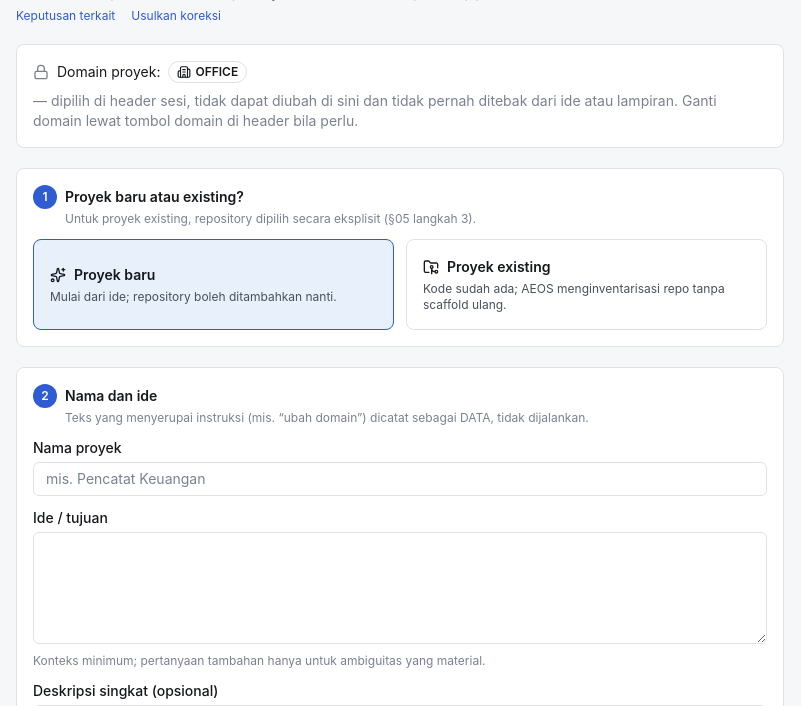
NewProjectPage › shows the session domain read-only and sends it explicitly with the domain's provider
Expected: the text "OFFICE" is shown, x1=168 y1=61 x2=247 y2=83
Expected: the text "tidak dapat diubah di sini" is shown, x1=33 y1=92 x2=716 y2=129
Click the radio button labelled "Proyek existing" at point(586, 284), box x1=406 y1=239 x2=767 y2=330
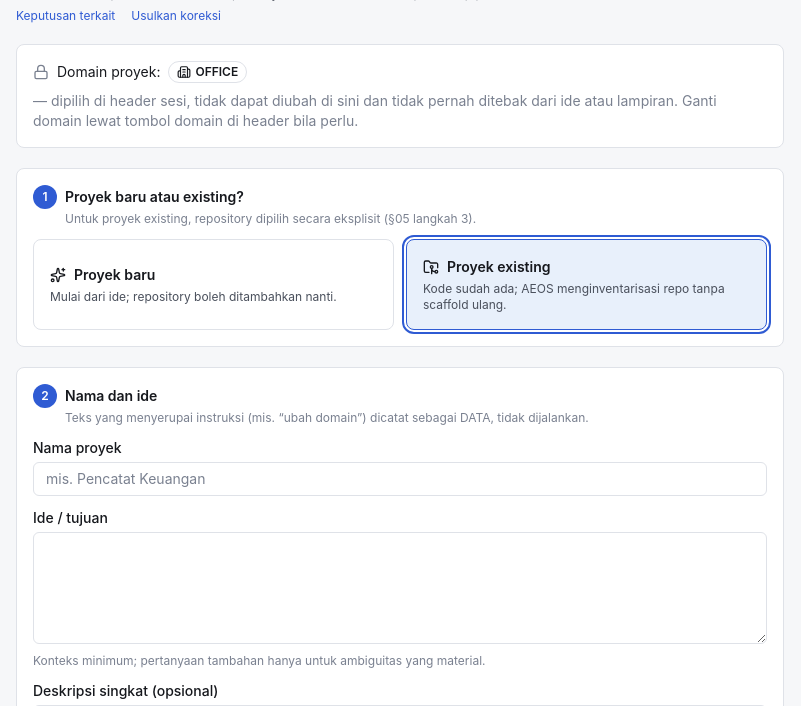
Type "Svc" into the field labelled "Nama proyek" at point(400, 479), box x1=33 y1=462 x2=767 y2=496
(page scrolled)
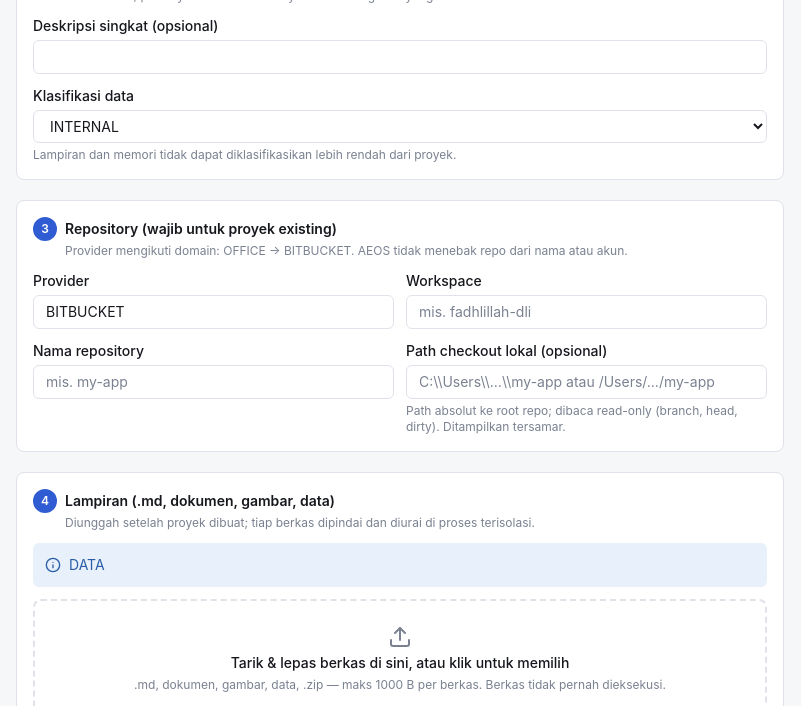
Result: the field labelled "Provider" holds "BITBUCKET" at x1=33 y1=295 x2=394 y2=329
Type "company" into the field labelled "Workspace" at point(586, 312), box x1=406 y1=295 x2=767 y2=329
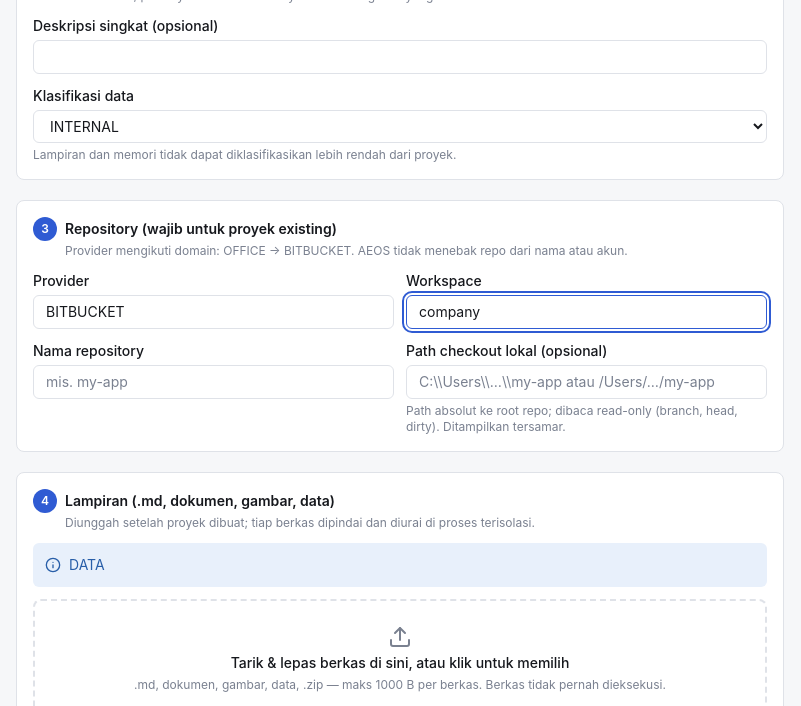
Type "svc" into the field labelled "Nama repository" at point(214, 382), box x1=33 y1=365 x2=394 y2=399
(page scrolled)
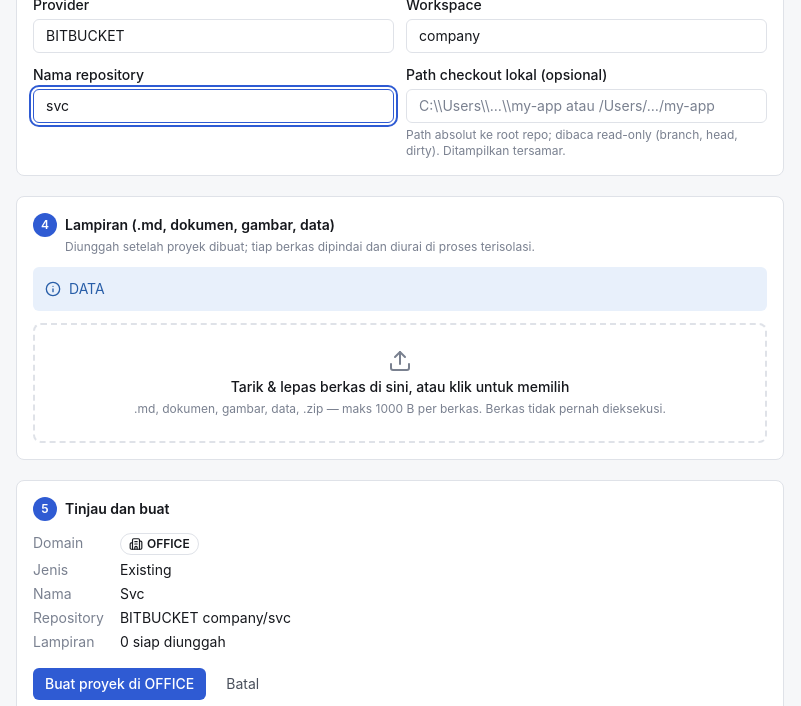
Click the button "Buat proyek di OFFICE" at point(120, 684), box x1=33 y1=668 x2=206 y2=700
(page scrolled)
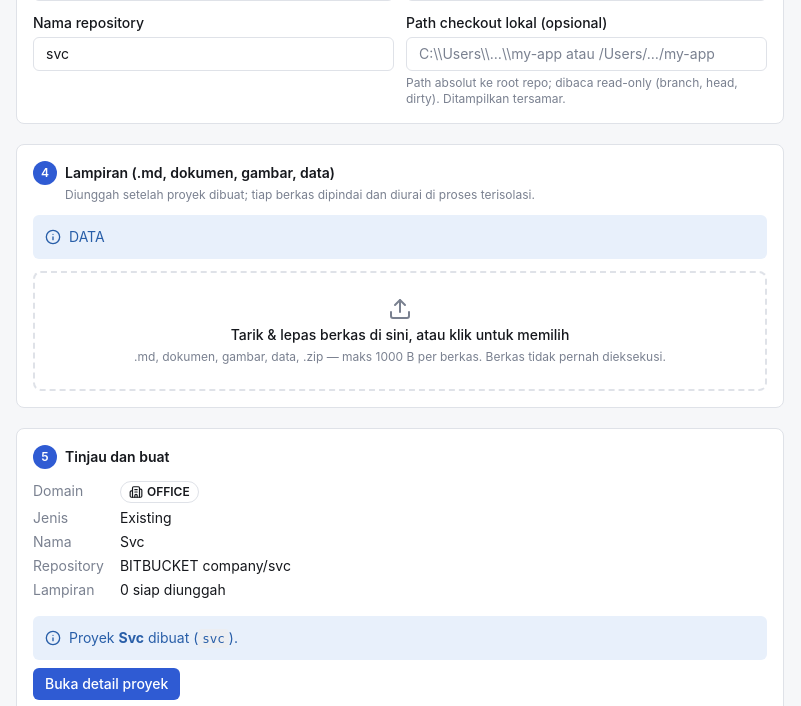
Result: the button "Buka detail proyek" is shown at x1=33 y1=668 x2=180 y2=700
